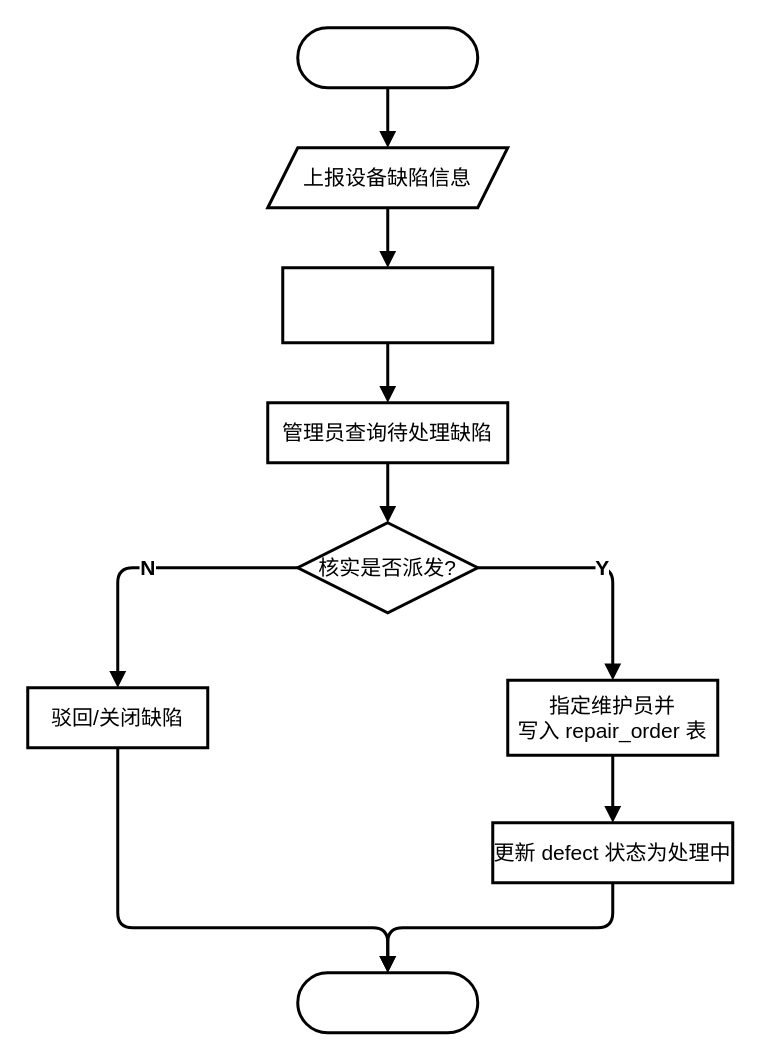
Image size: 759x1059. Some labels were removed from this diagram. The centre of each missing label's shape, as x and y in pixels:
写入 defect 表 (status='pending'): the point at 387,305
开始: the point at 387,57
结束: the point at 387,1002
